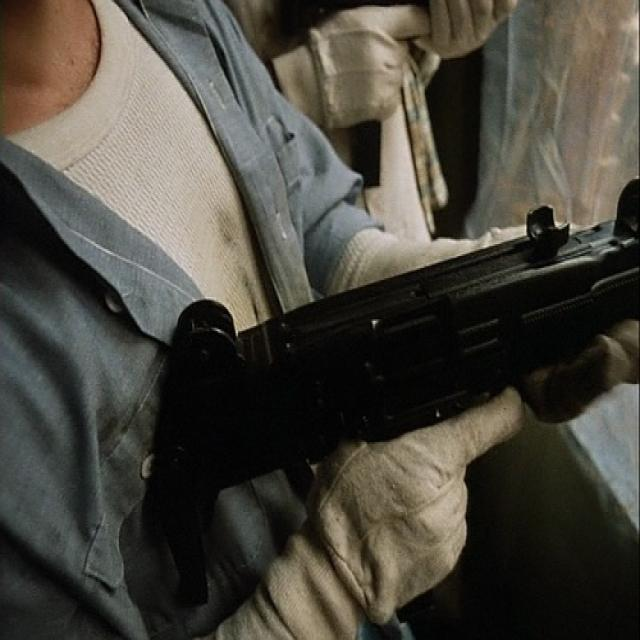rifle: (134, 171, 640, 612)
